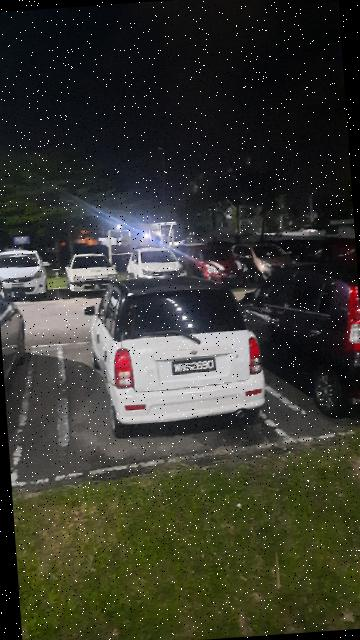License_Plate: (170, 357, 216, 377)
car: (81, 268, 270, 435), (241, 259, 360, 419), (189, 241, 252, 291), (64, 248, 123, 298), (1, 247, 52, 303), (130, 244, 189, 290), (253, 239, 303, 289)
